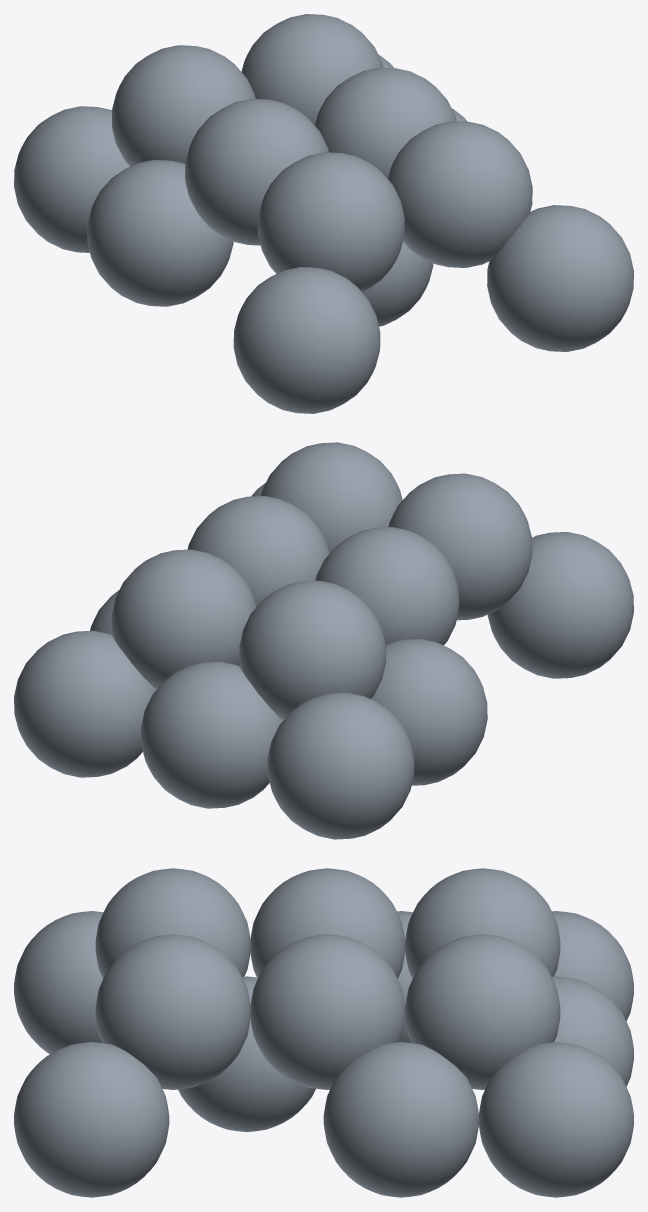
3 renders of one model, top to bottom at view 1: azimuth 30°, elevation 25°; view 2: azimuth 150°, elevation 25°; view 3: azimuth 270°, elevation 25°, orthographic. The views are drawn at different scales.
Visible parts, largest first — view 1: GeoSphere606; view 2: GeoSphere606; view 3: GeoSphere606.
Boxes of the visible parts, x1,y1,x2,y2 form: GeoSphere606: (14,14,633,413); GeoSphere606: (14,442,633,839); GeoSphere606: (14,868,633,1197).
Bounding box in the file's own units: 119 × 61.26 × 159.
Materials: 1 (1 with a texture image).
